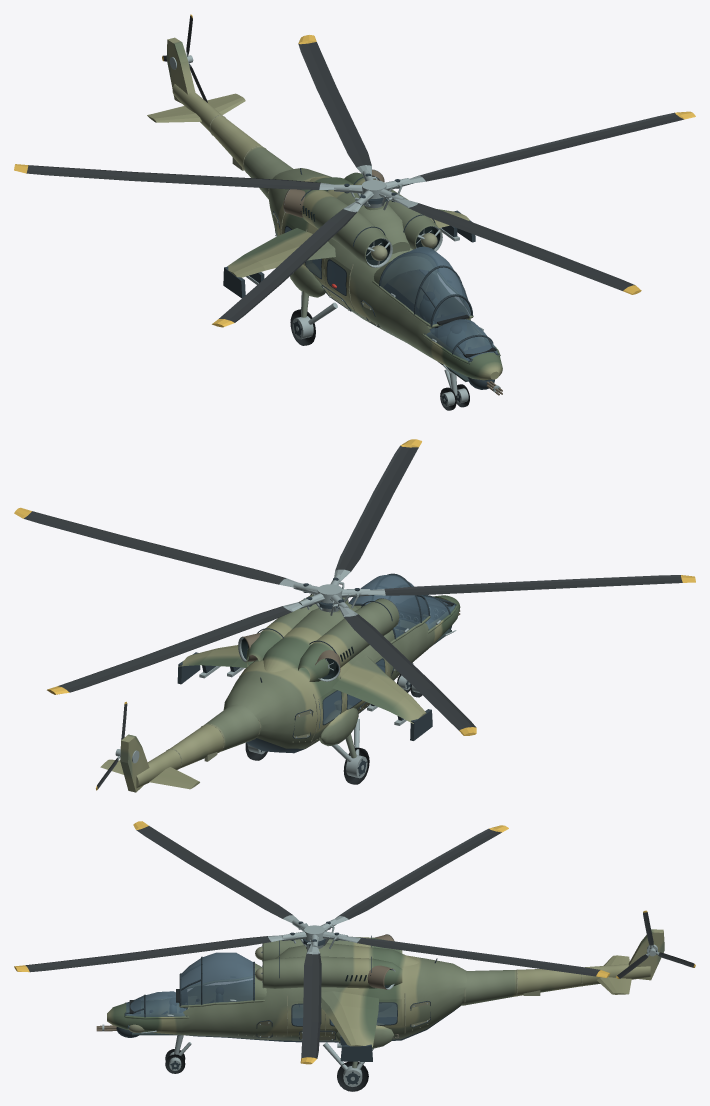
The model's file is HEUKSON.glb.
3 renders of one model, top to bottom at view 1: azimuth 30°, elevation 25°; view 2: azimuth 150°, elevation 25°; view 3: azimuth 270°, elevation 25°, orthographic. The views are drawn at different scales.
Visible parts, largest first — view 1: Airframe, MainRotor; view 2: Airframe, MainRotor; view 3: Airframe, MainRotor, TailRotor.
Boxes of the visible parts, <box> form: Airframe: <box>147,37,502,410</box>; MainRotor: <box>14,35,695,327</box>; Airframe: <box>100,573,460,792</box>; MainRotor: <box>14,439,695,735</box>; Airframe: <box>96,928,664,1091</box>; MainRotor: <box>14,821,610,1064</box>; TailRotor: <box>616,910,695,978</box>.
Bounding box in the file's own units: 15.88 × 5.03 × 18.93.
Materials: 15 (2 with a texture image).
